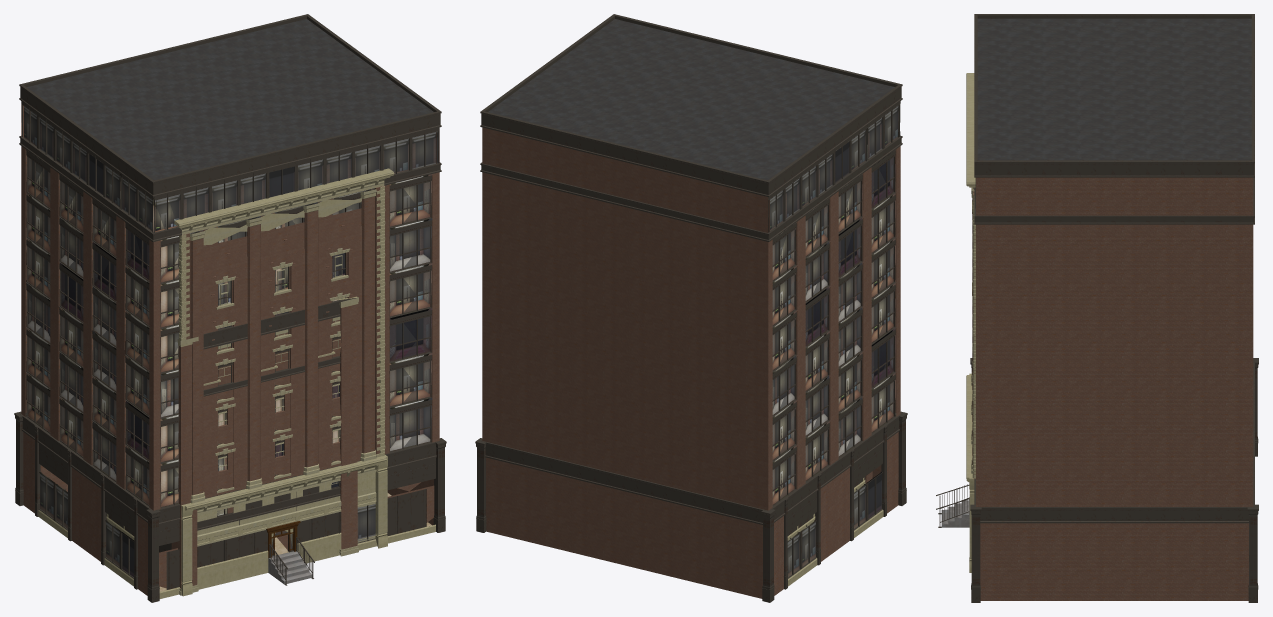
Rendered from city.glb.
3 renders of one model, left to right at view 1: azimuth 30°, elevation 25°; view 2: azimuth 150°, elevation 25°; view 3: azimuth 270°, elevation 25°, orthographic. The views are drawn at different scales.
Parts seen in each view (by area): view 1: Building_Large_2, Building_Medium_2.001, Building_Small_1; view 2: Building_Large_2; view 3: Building_Large_2, Building_Medium_2.001, Building_Small_1.
Boxes of the visible parts, x1,y1,x2,y2 form: Building_Large_2: (14,14,446,602); Building_Medium_2.001: (107,168,394,596); Building_Small_1: (92,278,358,595); Building_Large_2: (475,14,907,602); Building_Large_2: (970,14,1258,602); Building_Medium_2.001: (966,73,975,572); Building_Small_1: (936,200,972,527).
Bounding box in the file's own units: 20.64 × 28.01 × 18.63.
Materials: 12 (11 with a texture image).
